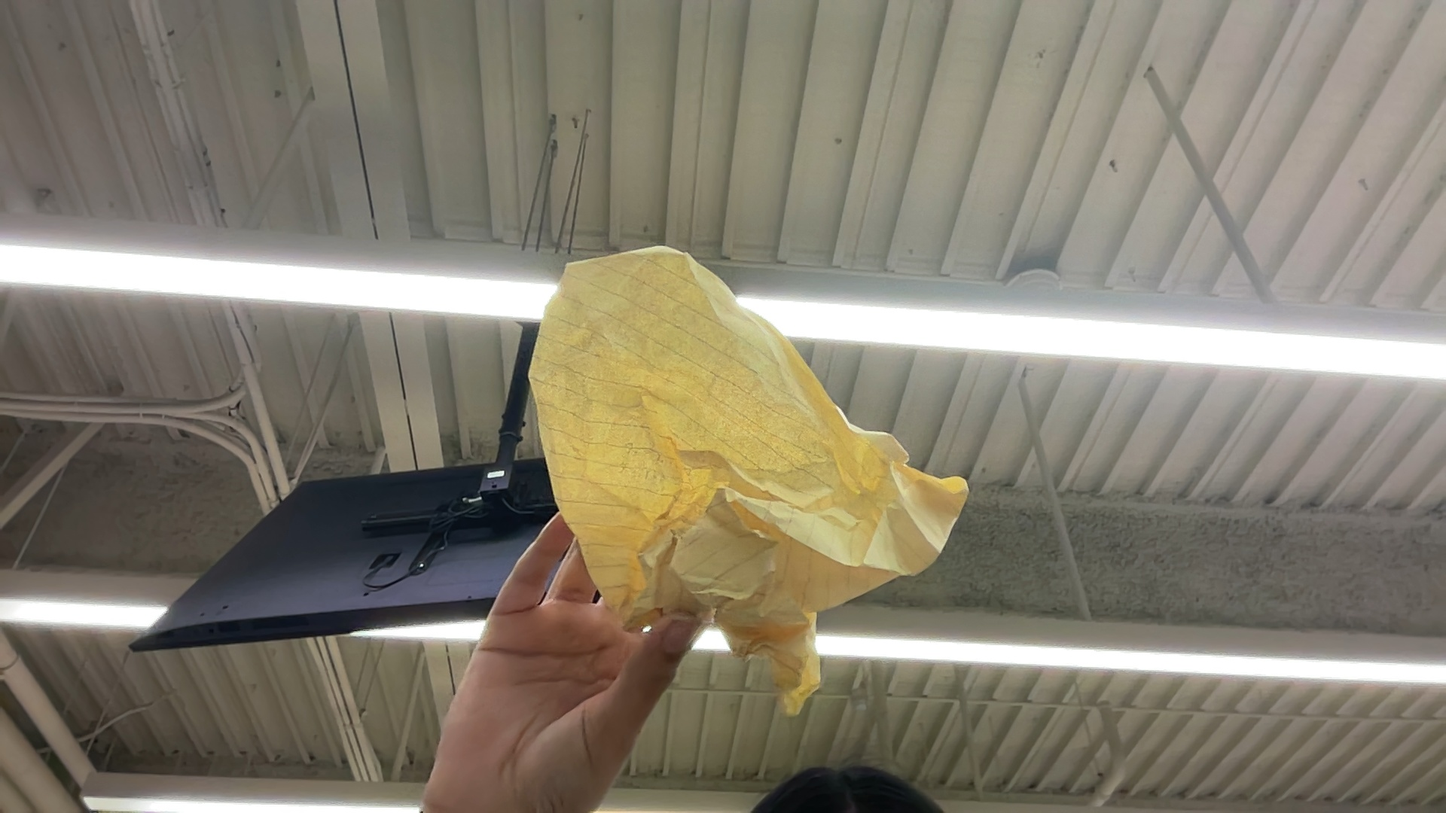Paper: (5, 404, 274, 608)
